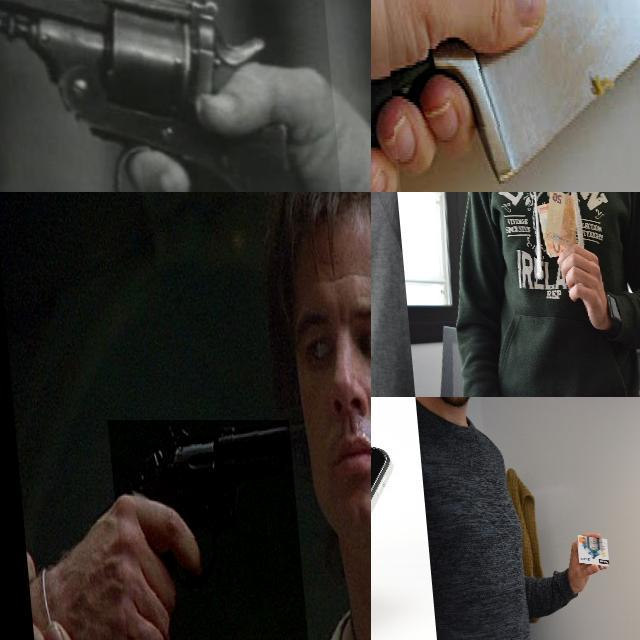-: (371, 0, 640, 192)
gun-knife-thesis - v11 Yolov5 augmented: (0, 0, 349, 192), (101, 419, 298, 640)
